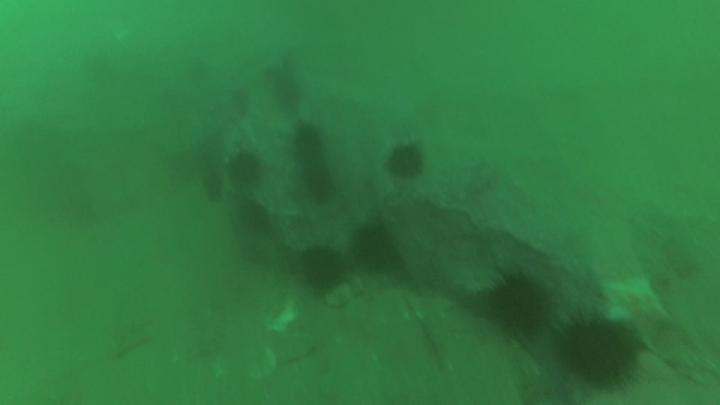echinus: (546, 302, 648, 397), (481, 265, 558, 342), (294, 240, 348, 298), (291, 163, 345, 211), (353, 220, 401, 273), (383, 135, 431, 187), (287, 120, 339, 160), (225, 148, 268, 191), (267, 73, 309, 115)
starfish: (605, 271, 677, 353)
